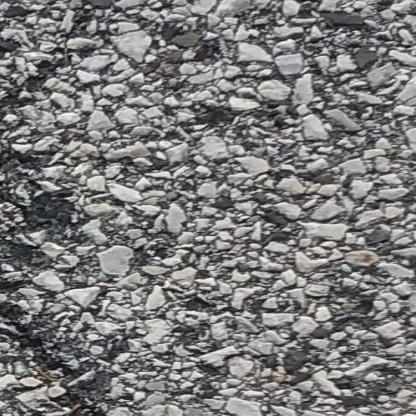Cracks: (0, 168, 139, 416), (0, 0, 108, 230)
